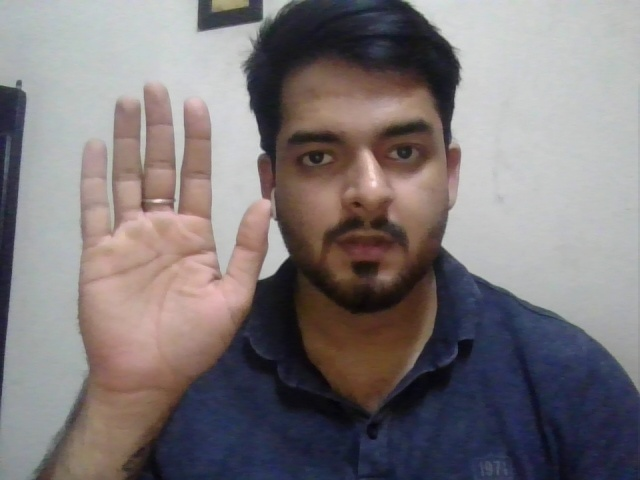hello: (75, 77, 272, 410)
